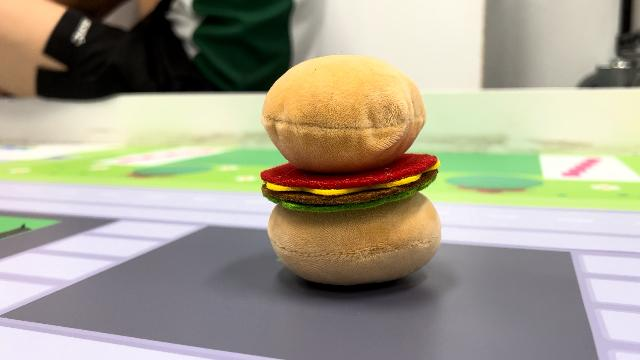burger: (254, 50, 448, 288)
